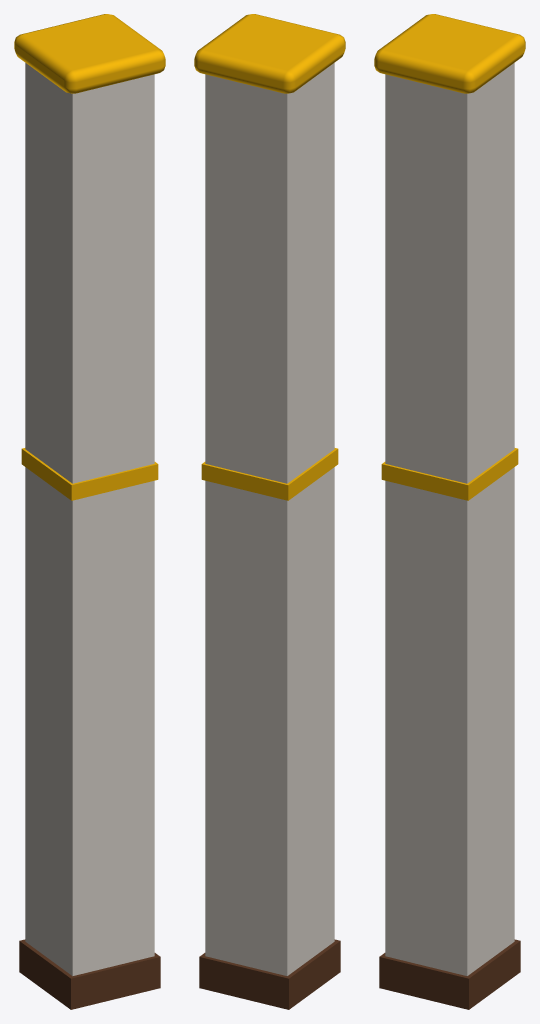
The model's file is pfosten_voll.glb.
The picture shows the model from 3 angles, left to right: view 1: azimuth 30°, elevation 25°; view 2: azimuth 150°, elevation 25°; view 3: azimuth 330°, elevation 25°; orthographic projection.
Parts seen in each view (by area): view 1: pfosten_voll; view 2: pfosten_voll; view 3: pfosten_voll.
Part boxes in pixels (x1,y1,x2,y2): pfosten_voll: (14, 14, 165, 1009); pfosten_voll: (194, 14, 345, 1009); pfosten_voll: (374, 14, 525, 1009).
Bounding box in the file's own units: 0.27 × 2.4 × 0.27.
